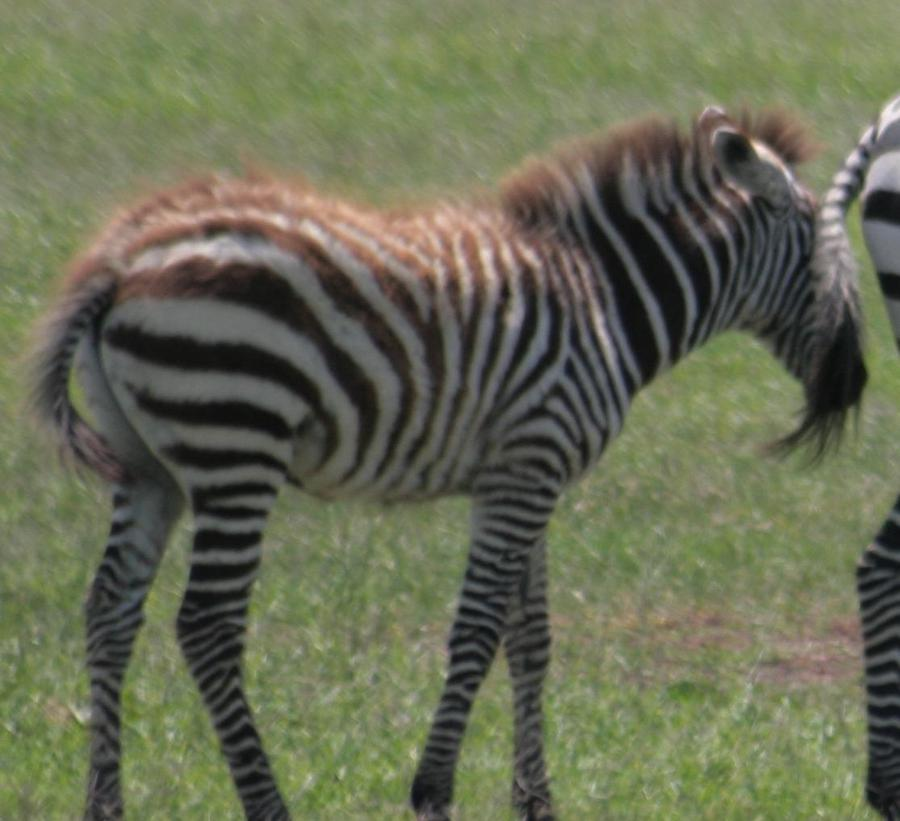zebra_plains: (111, 159, 658, 570)
